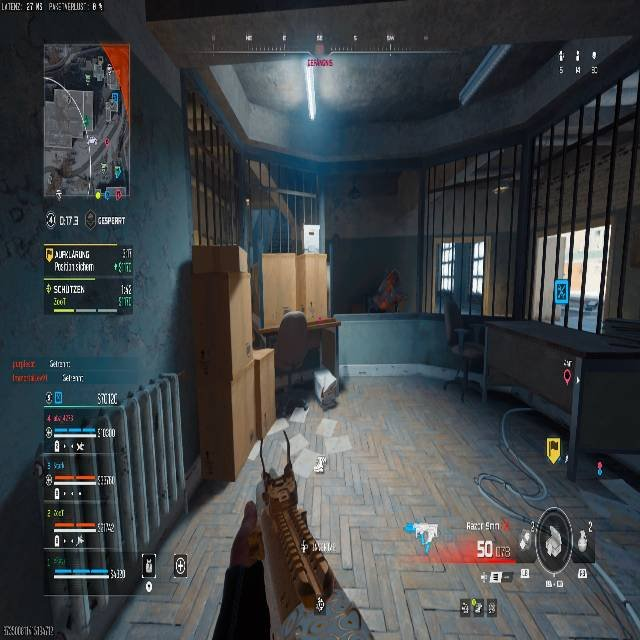head: (276, 367, 345, 418)
player: (368, 268, 404, 312)
